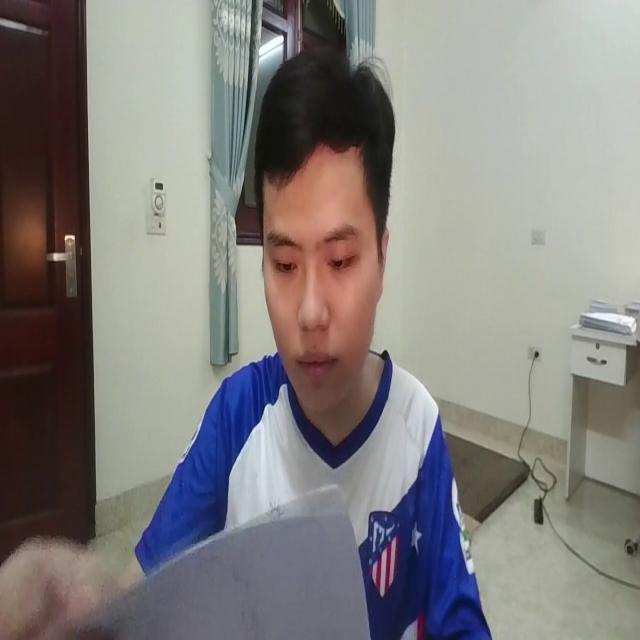book: (45, 479, 379, 640)
student: (104, 48, 500, 640)
